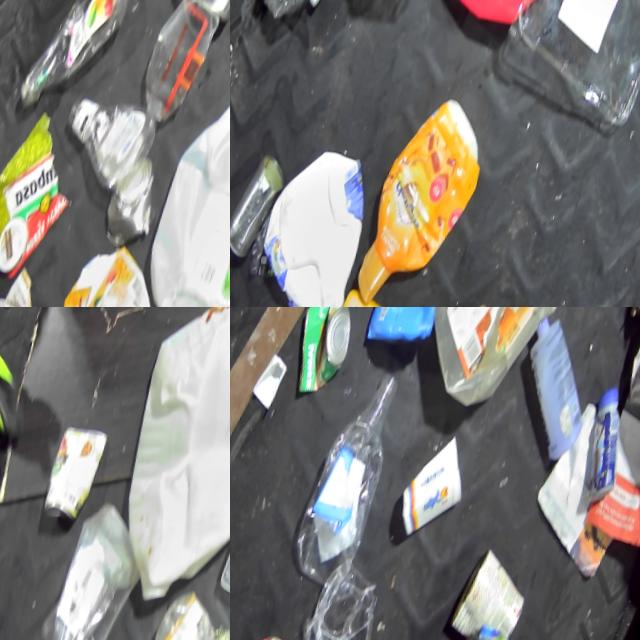can: (453, 542, 541, 640), (287, 307, 369, 411), (230, 148, 299, 270), (46, 427, 111, 514), (106, 160, 165, 250)
milk_jug: (96, 307, 230, 622), (248, 138, 391, 307), (138, 64, 230, 307)
non_white_jug: (361, 93, 503, 307), (412, 307, 574, 412), (372, 307, 473, 357)
plastic_bottle: (298, 356, 412, 586), (16, 0, 141, 113), (59, 98, 162, 185), (304, 568, 394, 640), (255, 0, 358, 41), (143, 596, 230, 640)
